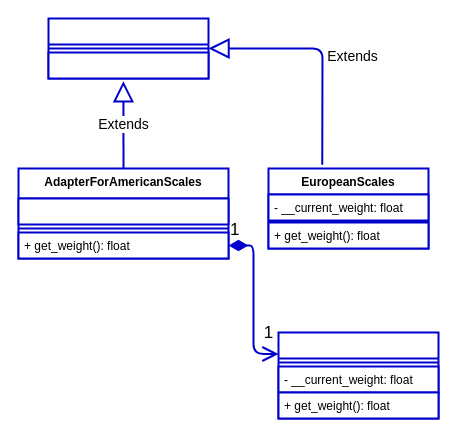
Some shapes in this 456 by 438 pixel diagram are drawn without their labels. Here are the shapes that lost their labels. From the top down, the box of each, then its label:
(47, 17, 209, 79): BaseScale
(47, 51, 209, 79): + get_weight(): None
(17, 197, 229, 225): - __current_weight: AmericanScales
(277, 331, 439, 419): AmericanScales
